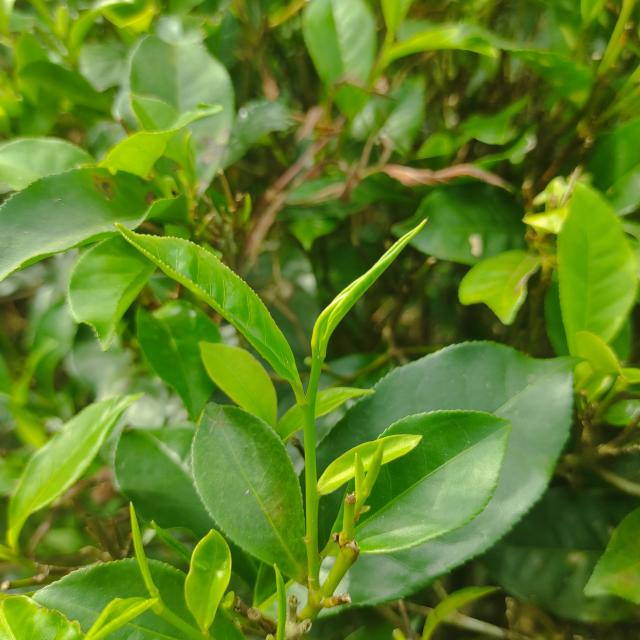unopened_leaf: (300, 215, 438, 366), (122, 497, 166, 606), (361, 438, 396, 507), (266, 556, 292, 640), (350, 444, 378, 507), (182, 128, 196, 176)
